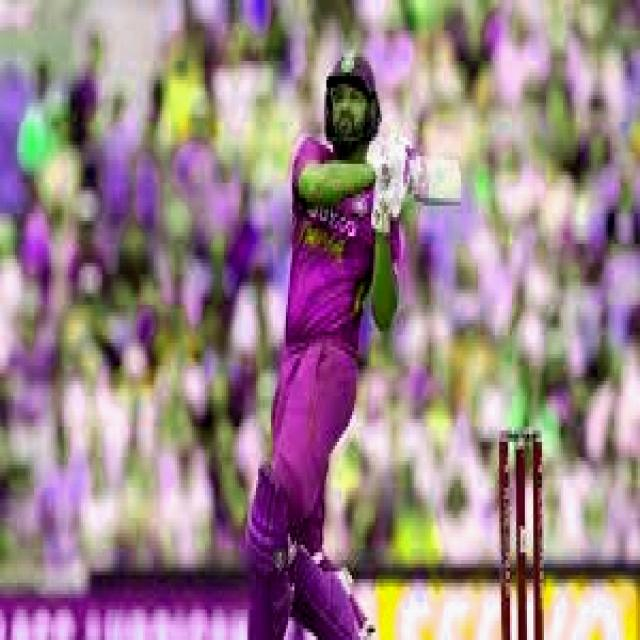toe: (450, 161, 466, 209)
